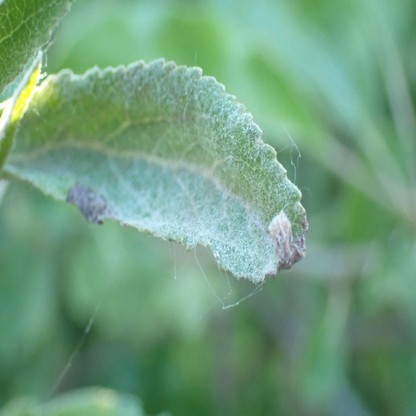powdery_mildew: (4, 60, 307, 283)
